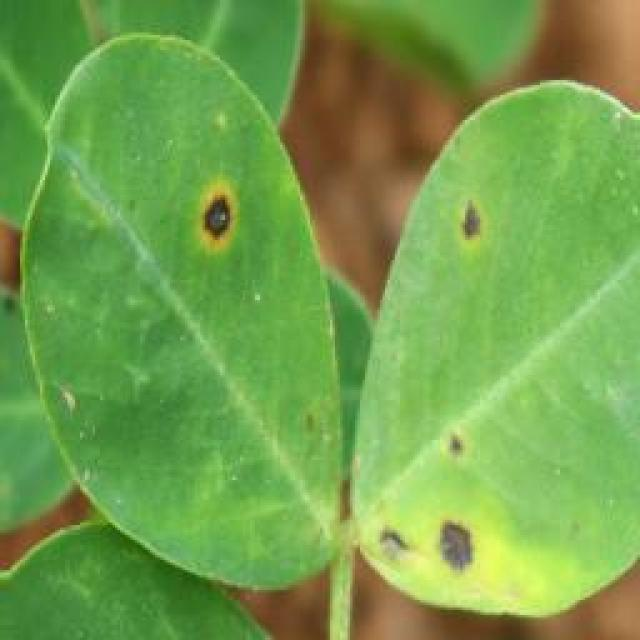Sigatoka: (372, 486, 508, 585), (181, 173, 263, 281), (435, 417, 503, 504), (461, 193, 502, 261)
